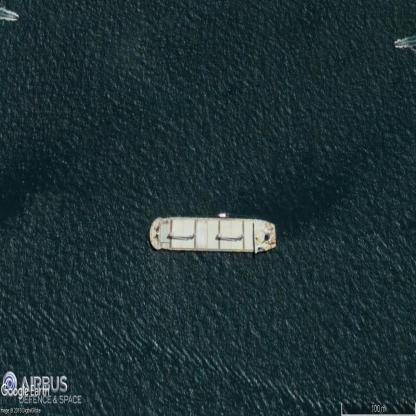ship: (150, 217, 277, 252), (219, 214, 226, 218), (394, 42, 400, 46)
